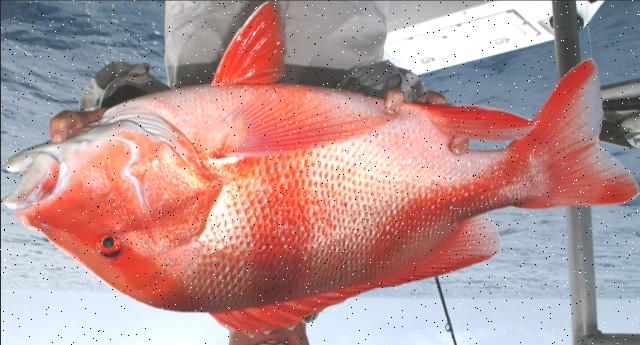Mulut: (0, 130, 68, 237)
Sirip Anal: (412, 86, 548, 150)
Sirip Dada: (190, 76, 406, 170)
Sirip Ekor: (520, 51, 640, 221)
Sirip Perut: (201, 0, 297, 95)
Sirip Punggung: (200, 207, 510, 339)
